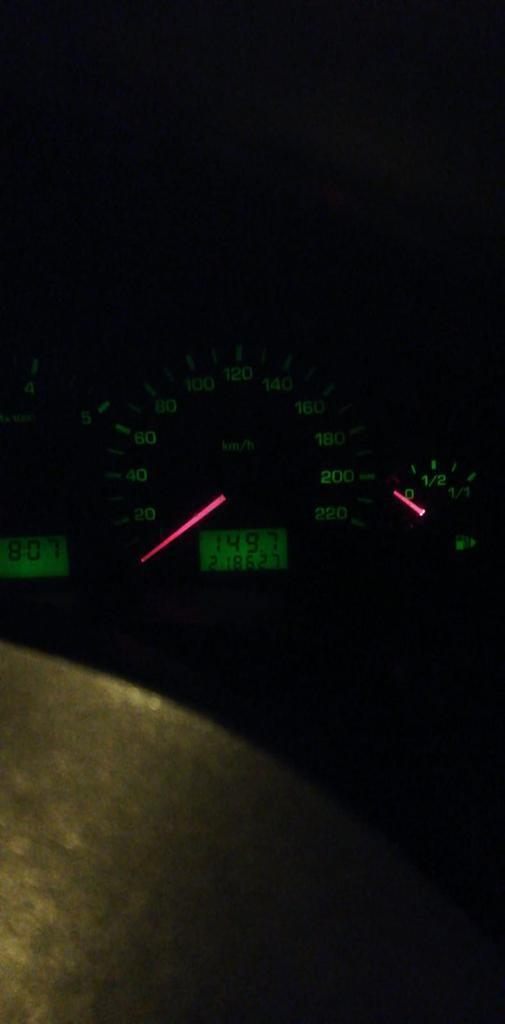,: (258, 546, 264, 553)
1: (214, 533, 221, 552), (223, 554, 231, 570)
2: (256, 553, 267, 570), (207, 554, 217, 571)
4: (225, 532, 241, 551)
6: (244, 554, 254, 570)
7: (265, 529, 280, 552), (269, 553, 281, 570)
8: (231, 554, 243, 570)
9: (244, 531, 258, 553)
odometer: (192, 523, 294, 577)
